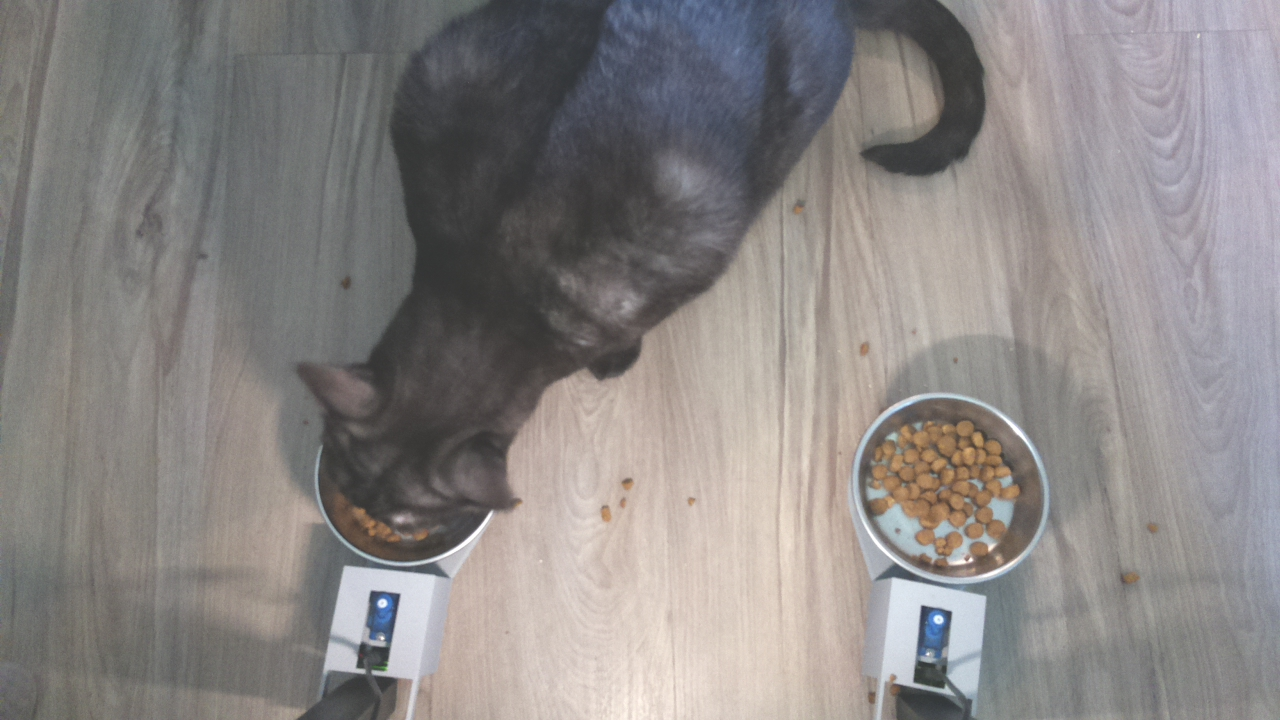open_bowl: (850, 389, 1052, 587)
saki_eating: (284, 333, 537, 576)
